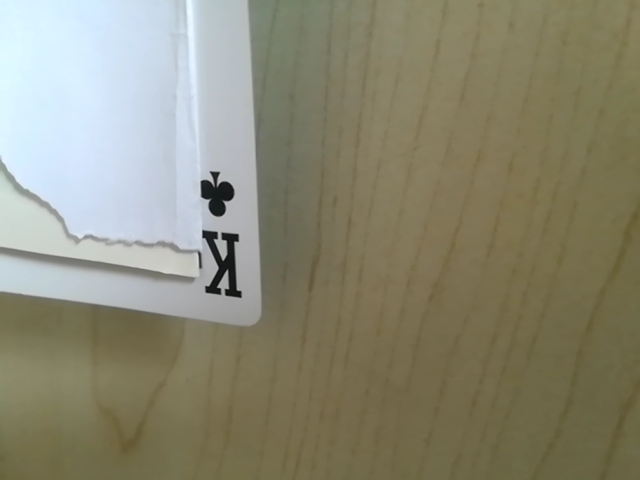mh k: (157, 159, 276, 328)
